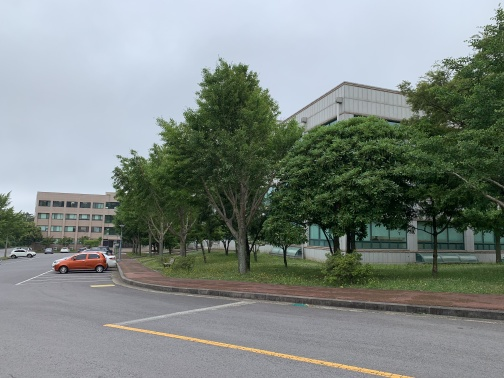Joint Experimental Labs: (36, 190, 124, 249)
Second Library: (288, 185, 504, 269), (277, 79, 444, 138)
